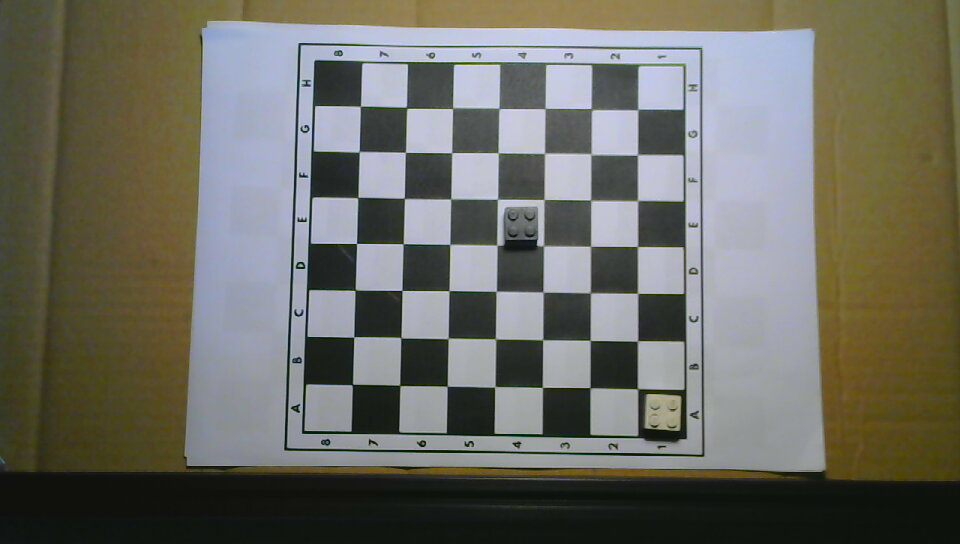bp: (502, 204, 540, 245)
wp: (643, 393, 682, 433)
